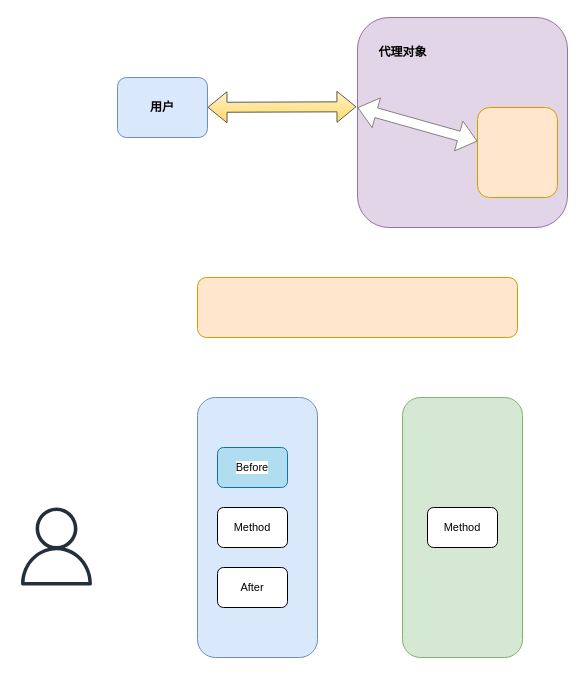
Image size: 585x675. Some labels were removed from this diagram. Here are the shapes that lost their labels. From the top down, the box of each, then its label:
(476, 106, 558, 198): 目标对象
(196, 276, 518, 338): 接口
